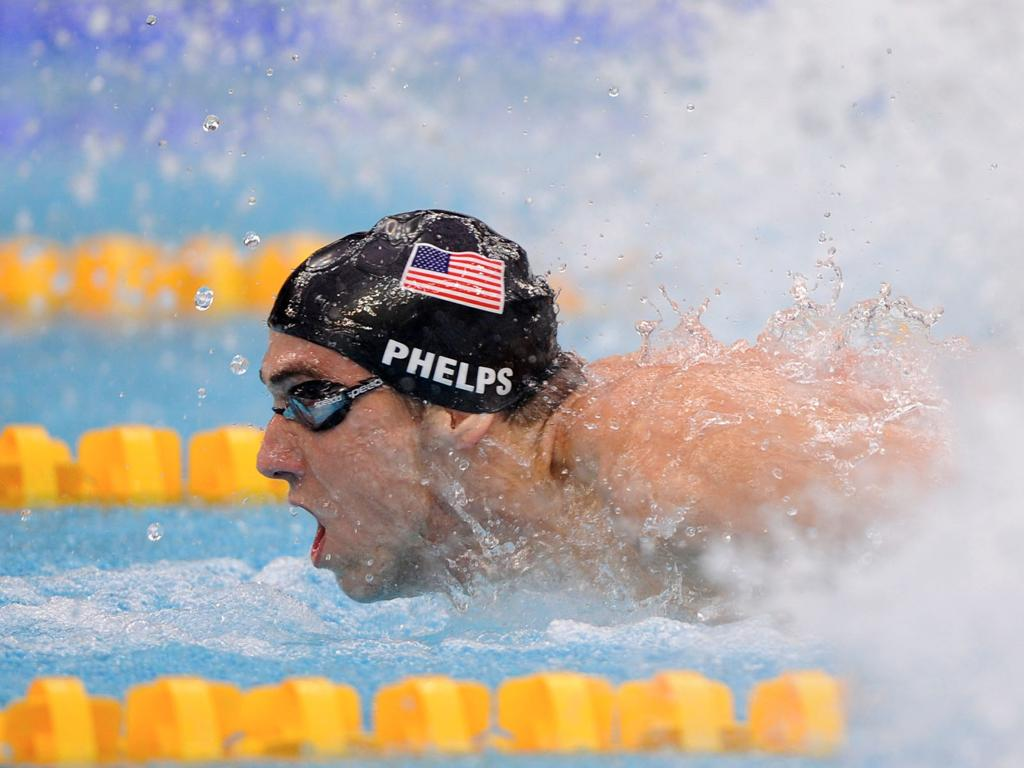face: (248, 338, 444, 608)
